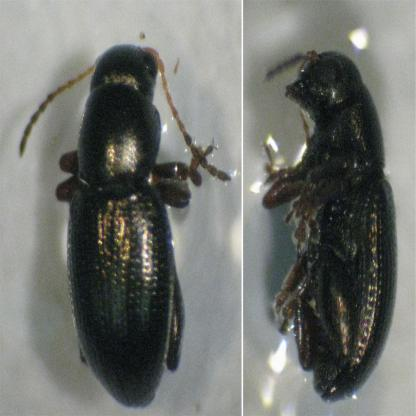beetle: (20, 38, 230, 405), (258, 38, 394, 405)
